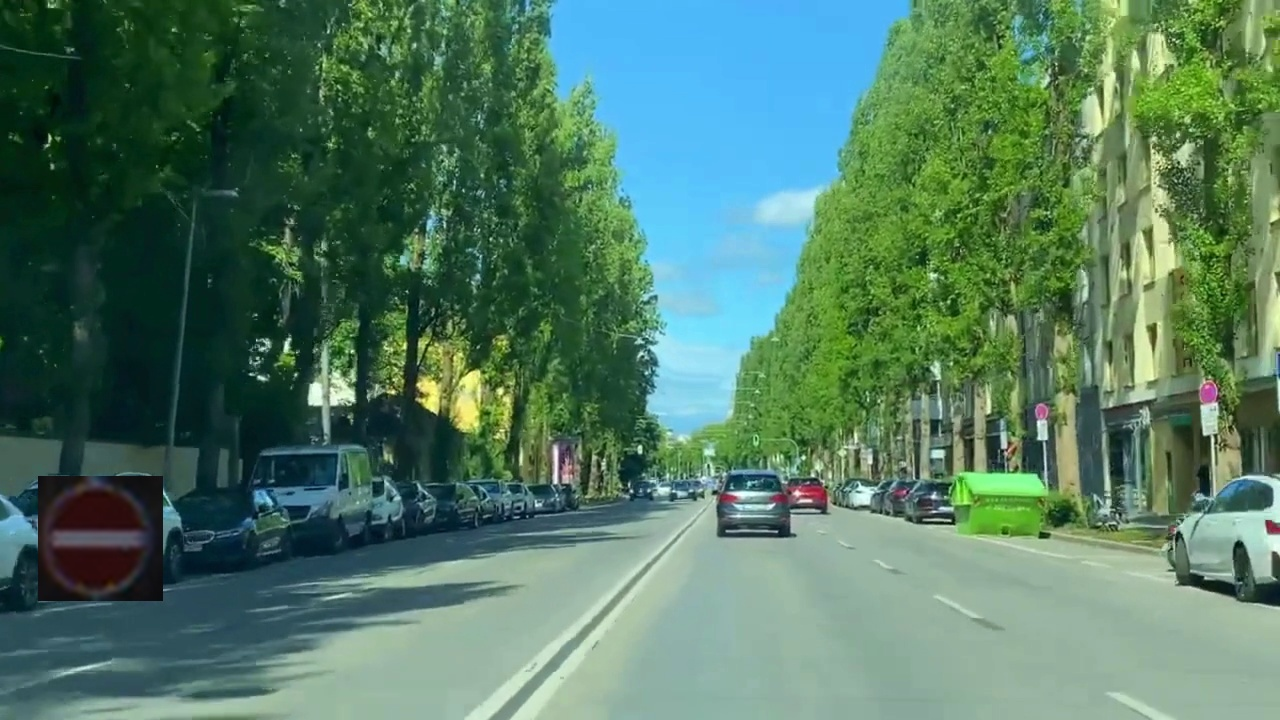No entry: (38, 476, 163, 601)
